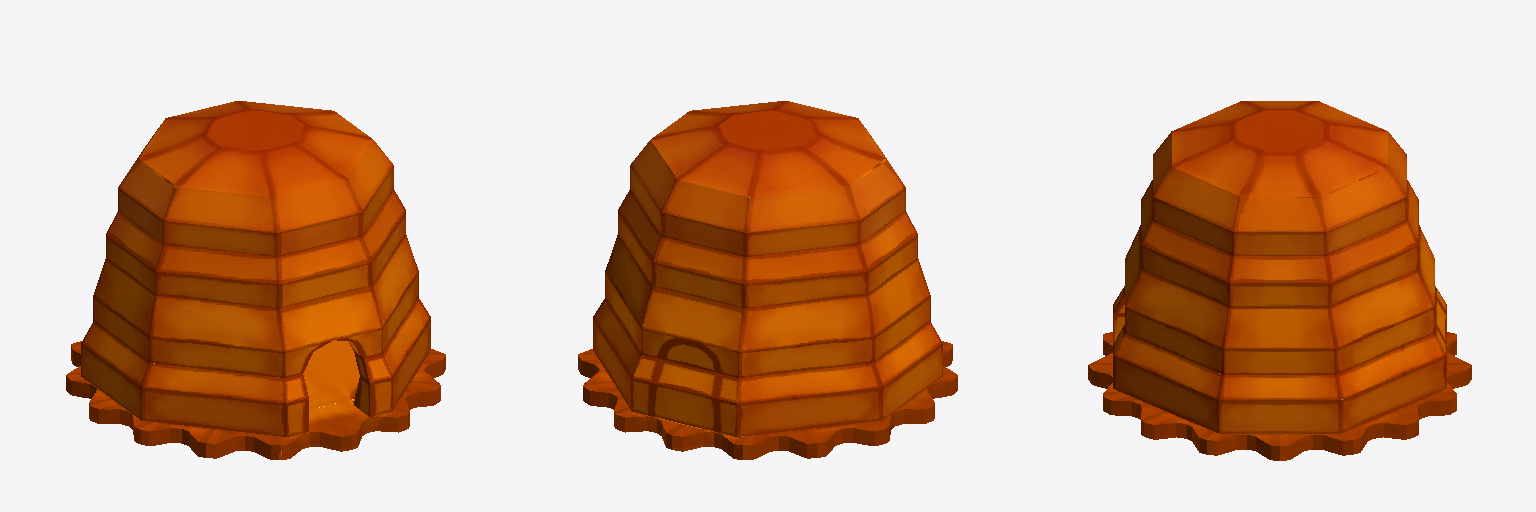
3 views of the same model, side by side, from view 1: azimuth 30°, elevation 25°; view 2: azimuth 150°, elevation 25°; view 3: azimuth 270°, elevation 25° (orthographic).
Visible parts, largest first — view 1: Circle; view 2: Circle; view 3: Circle.
Part boxes in pixels (left/top/right/bottom): Circle: left=66, top=101, right=445, bottom=459; Circle: left=578, top=101, right=957, bottom=459; Circle: left=1088, top=101, right=1471, bottom=460.
Bounding box in the file's own units: 3.01 × 2.17 × 3.01.
2 materials, 1 textured.